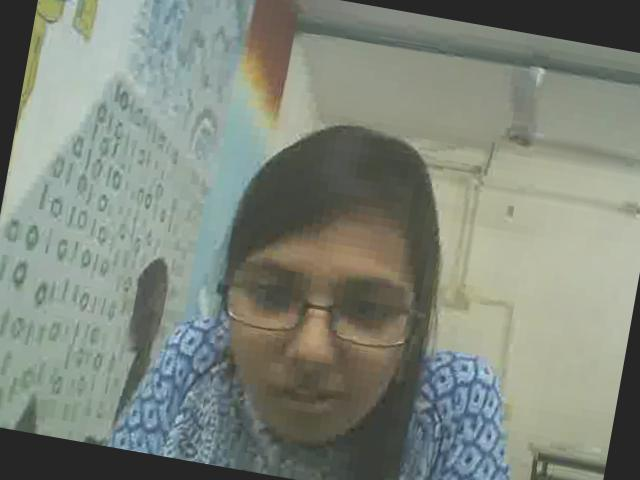bingung: (201, 197, 428, 464)
